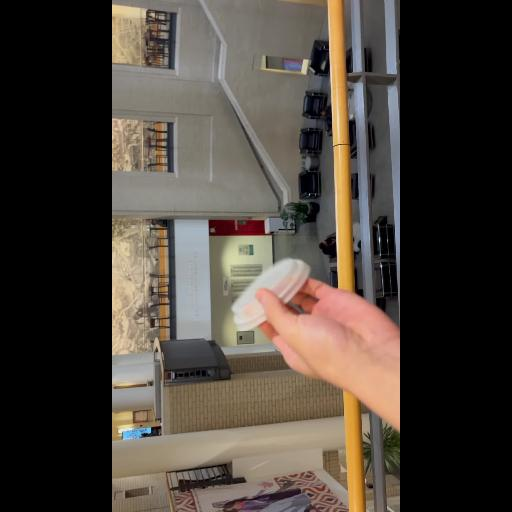lp_cup_lids: (230, 258, 314, 332)
